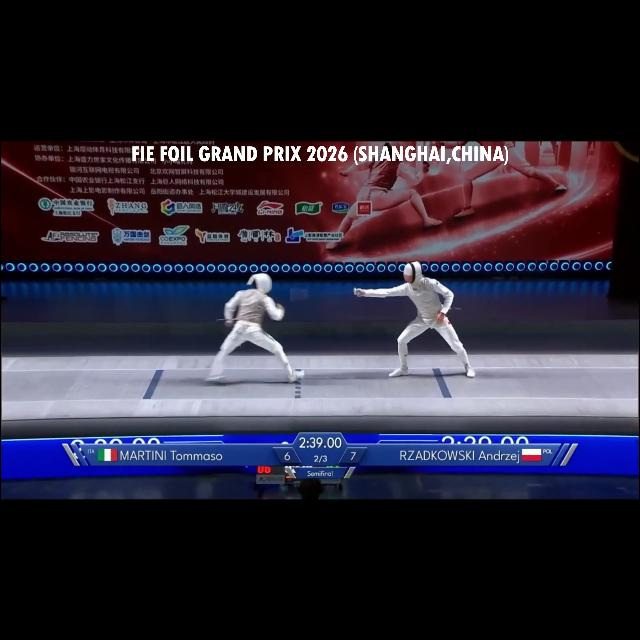blade: (288, 287, 368, 299)
